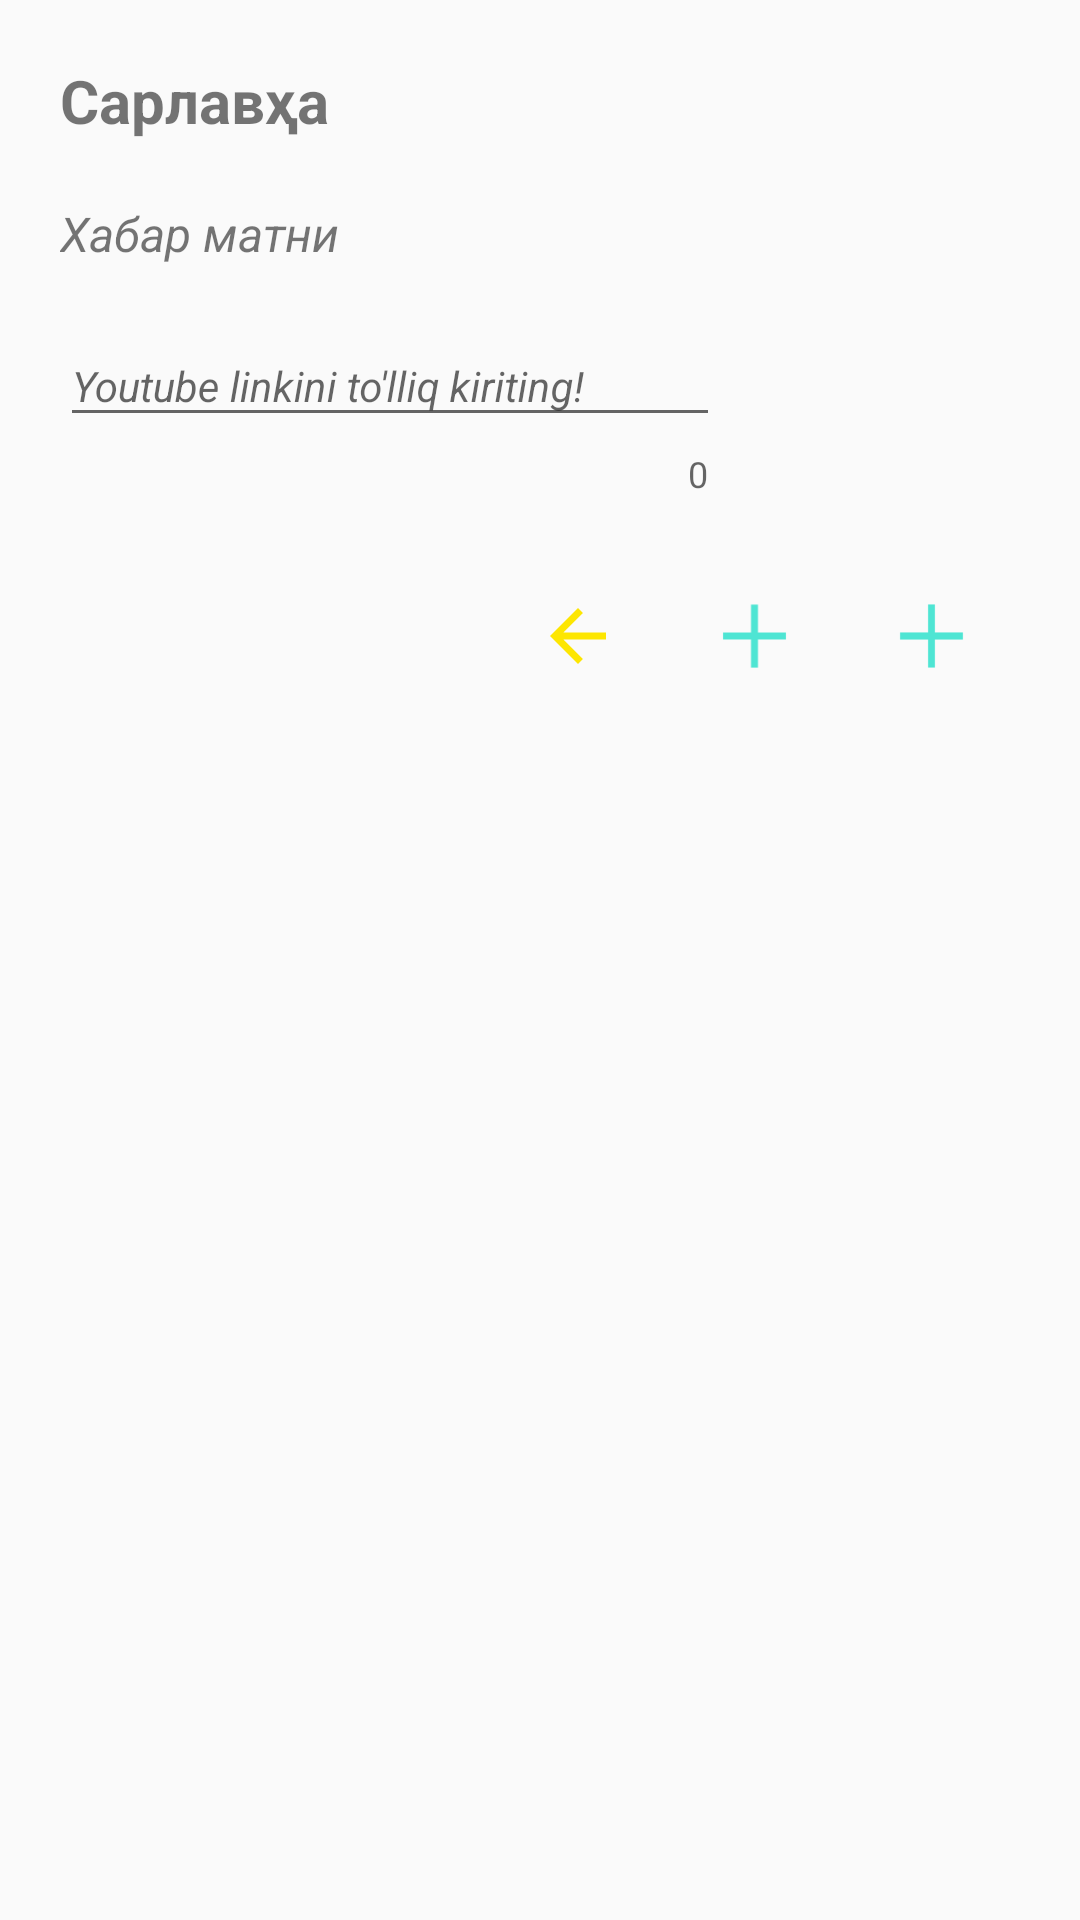

Icons on this 1080px x 1920px Android screen, each with the point to tap as (x,y):
add: (754,636), (931,636)
arrow back: (578,636)
